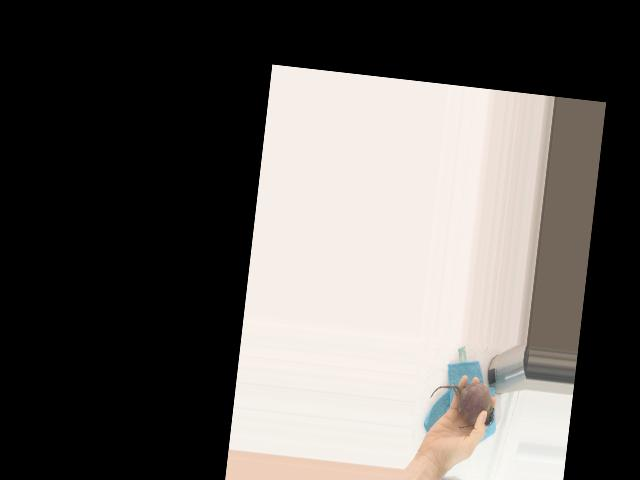beet: (427, 377, 497, 430)
